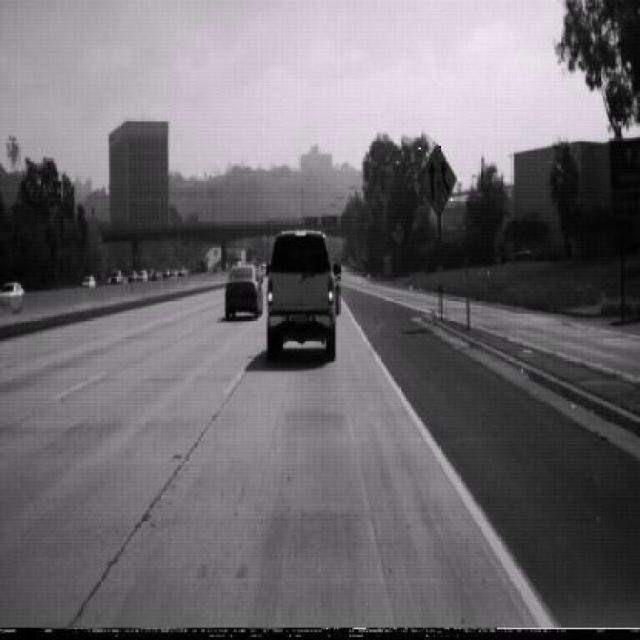addedLane: (418, 143, 457, 217)
